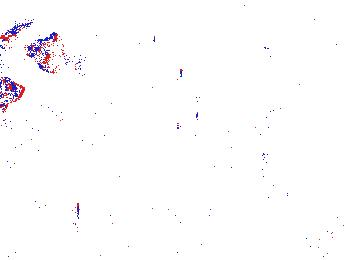X-ray fish: (23, 33, 74, 73), (1, 75, 26, 108)
red belly glassfish: (259, 43, 297, 67), (1, 22, 28, 44)
